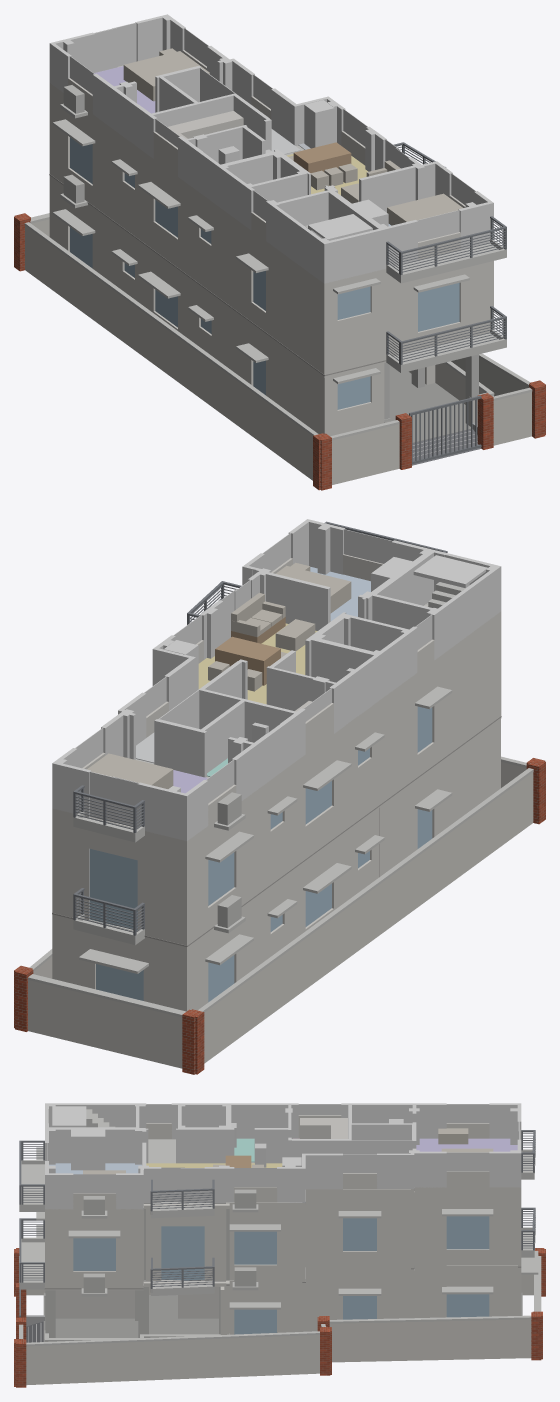
3 renders of one model, top to bottom at view 1: azimuth 30°, elevation 25°; view 2: azimuth 150°, elevation 25°; view 3: azimuth 270°, elevation 25°, orthographic. The views are drawn at different scales.
Parts seen in each view (by area): view 1: BOUNDARY#214, 1ST_FLOOR/wall#299, 1ST_FLOOR/wall#304, 1ST_FLOOR/wall#292, GROUND_FLOOR/core_wall#102, BOUNDARY#172, PLINTH#0, 1ST_FLOOR/wall#319, 2ND_FLOOR/wall#606, 1ST_FLOOR/wall#297, BOUNDARY/coping#215, 2ND_FLOOR/wall#611 (+76 smaller); view 2: BOUNDARY#214, BOUNDARY#210, 1ST_FLOOR/wall#299, 1ST_FLOOR/wall#347, 1ST_FLOOR/wall#304, GROUND_FLOOR/core_wall#102, 1ST_FLOOR/wall#350, 2ND_FLOOR/wall#606, 1ST_FLOOR/wall#319, GROUND_FLOOR/flat_wall#83, BOUNDARY/coping#215, 2ND_FLOOR/partition#688 (+75 smaller); view 3: BOUNDARY#198, BOUNDARY#206, 1ST_FLOOR/wall#341, 1ST_FLOOR/wall#346, 1ST_FLOOR/wall#351, GROUND_FLOOR/stair#42, 1ST_FLOOR/wall#356, GROUND_FLOOR/flat_wall#77, 2ND_FLOOR/partition#675, 1ST_FLOOR/wall#339, PLINTH#1, 1ST_FLOOR/wall#325 (+106 smaller).
Part boxes in pixels (box(x1,y1,x2,y2)): BOUNDARY#214: box(25, 226, 312, 480); 1ST_FLOOR/wall#299: box(266, 245, 322, 371); 1ST_FLOOR/wall#304: box(211, 205, 253, 319); 1ST_FLOOR/wall#292: box(370, 272, 417, 361); GROUND_FLOOR/core_wall#102: box(270, 337, 324, 433); BOUNDARY#172: box(332, 424, 399, 484); PLINTH#0: box(389, 383, 470, 443); 1ST_FLOOR/wall#319: box(92, 118, 124, 225); 2ND_FLOOR/wall#606: box(266, 200, 323, 281); 1ST_FLOOR/wall#297: box(459, 261, 493, 339); BOUNDARY/coping#215: box(24, 222, 318, 435); 2ND_FLOOR/wall#611: box(211, 160, 254, 229); BOUNDARY#214: box(204, 772, 533, 1063); BOUNDARY#210: box(28, 980, 182, 1068); 1ST_FLOOR/wall#299: box(432, 618, 498, 762); 1ST_FLOOR/wall#347: box(137, 835, 189, 943); 1ST_FLOOR/wall#304: box(370, 677, 417, 808); GROUND_FLOOR/core_wall#102: box(439, 718, 500, 833); 1ST_FLOOR/wall#350: box(52, 813, 89, 919); 2ND_FLOOR/wall#606: box(430, 567, 498, 660); 1ST_FLOOR/wall#319: box(234, 785, 270, 903); GROUND_FLOOR/flat_wall#83: box(143, 938, 189, 1011); BOUNDARY/coping#215: box(198, 768, 533, 1012); 2ND_FLOOR/partition#688: box(154, 719, 206, 777); BOUNDARY#198: box(26, 1335, 319, 1385); BOUNDARY#206: box(329, 1319, 531, 1362); 1ST_FLOOR/wall#341: box(305, 1192, 342, 1267); 1ST_FLOOR/wall#346: box(377, 1192, 410, 1266); 1ST_FLOOR/wall#351: box(414, 1190, 446, 1265); GROUND_FLOOR/stair#42: box(55, 1290, 134, 1318); 1ST_FLOOR/wall#356: box(489, 1191, 517, 1264); GROUND_FLOOR/flat_wall#77: box(305, 1270, 342, 1331); 2ND_FLOOR/partition#675: box(176, 1128, 229, 1163); 1ST_FLOOR/wall#339: box(277, 1206, 302, 1280); PLINTH#1: box(149, 1295, 218, 1334); 1ST_FLOOR/wall#325: box(48, 1212, 73, 1286).
Size of the model in its own units: 8.06 by 7.75 by 18.89.
Materials: 1 (1 with a texture image).
